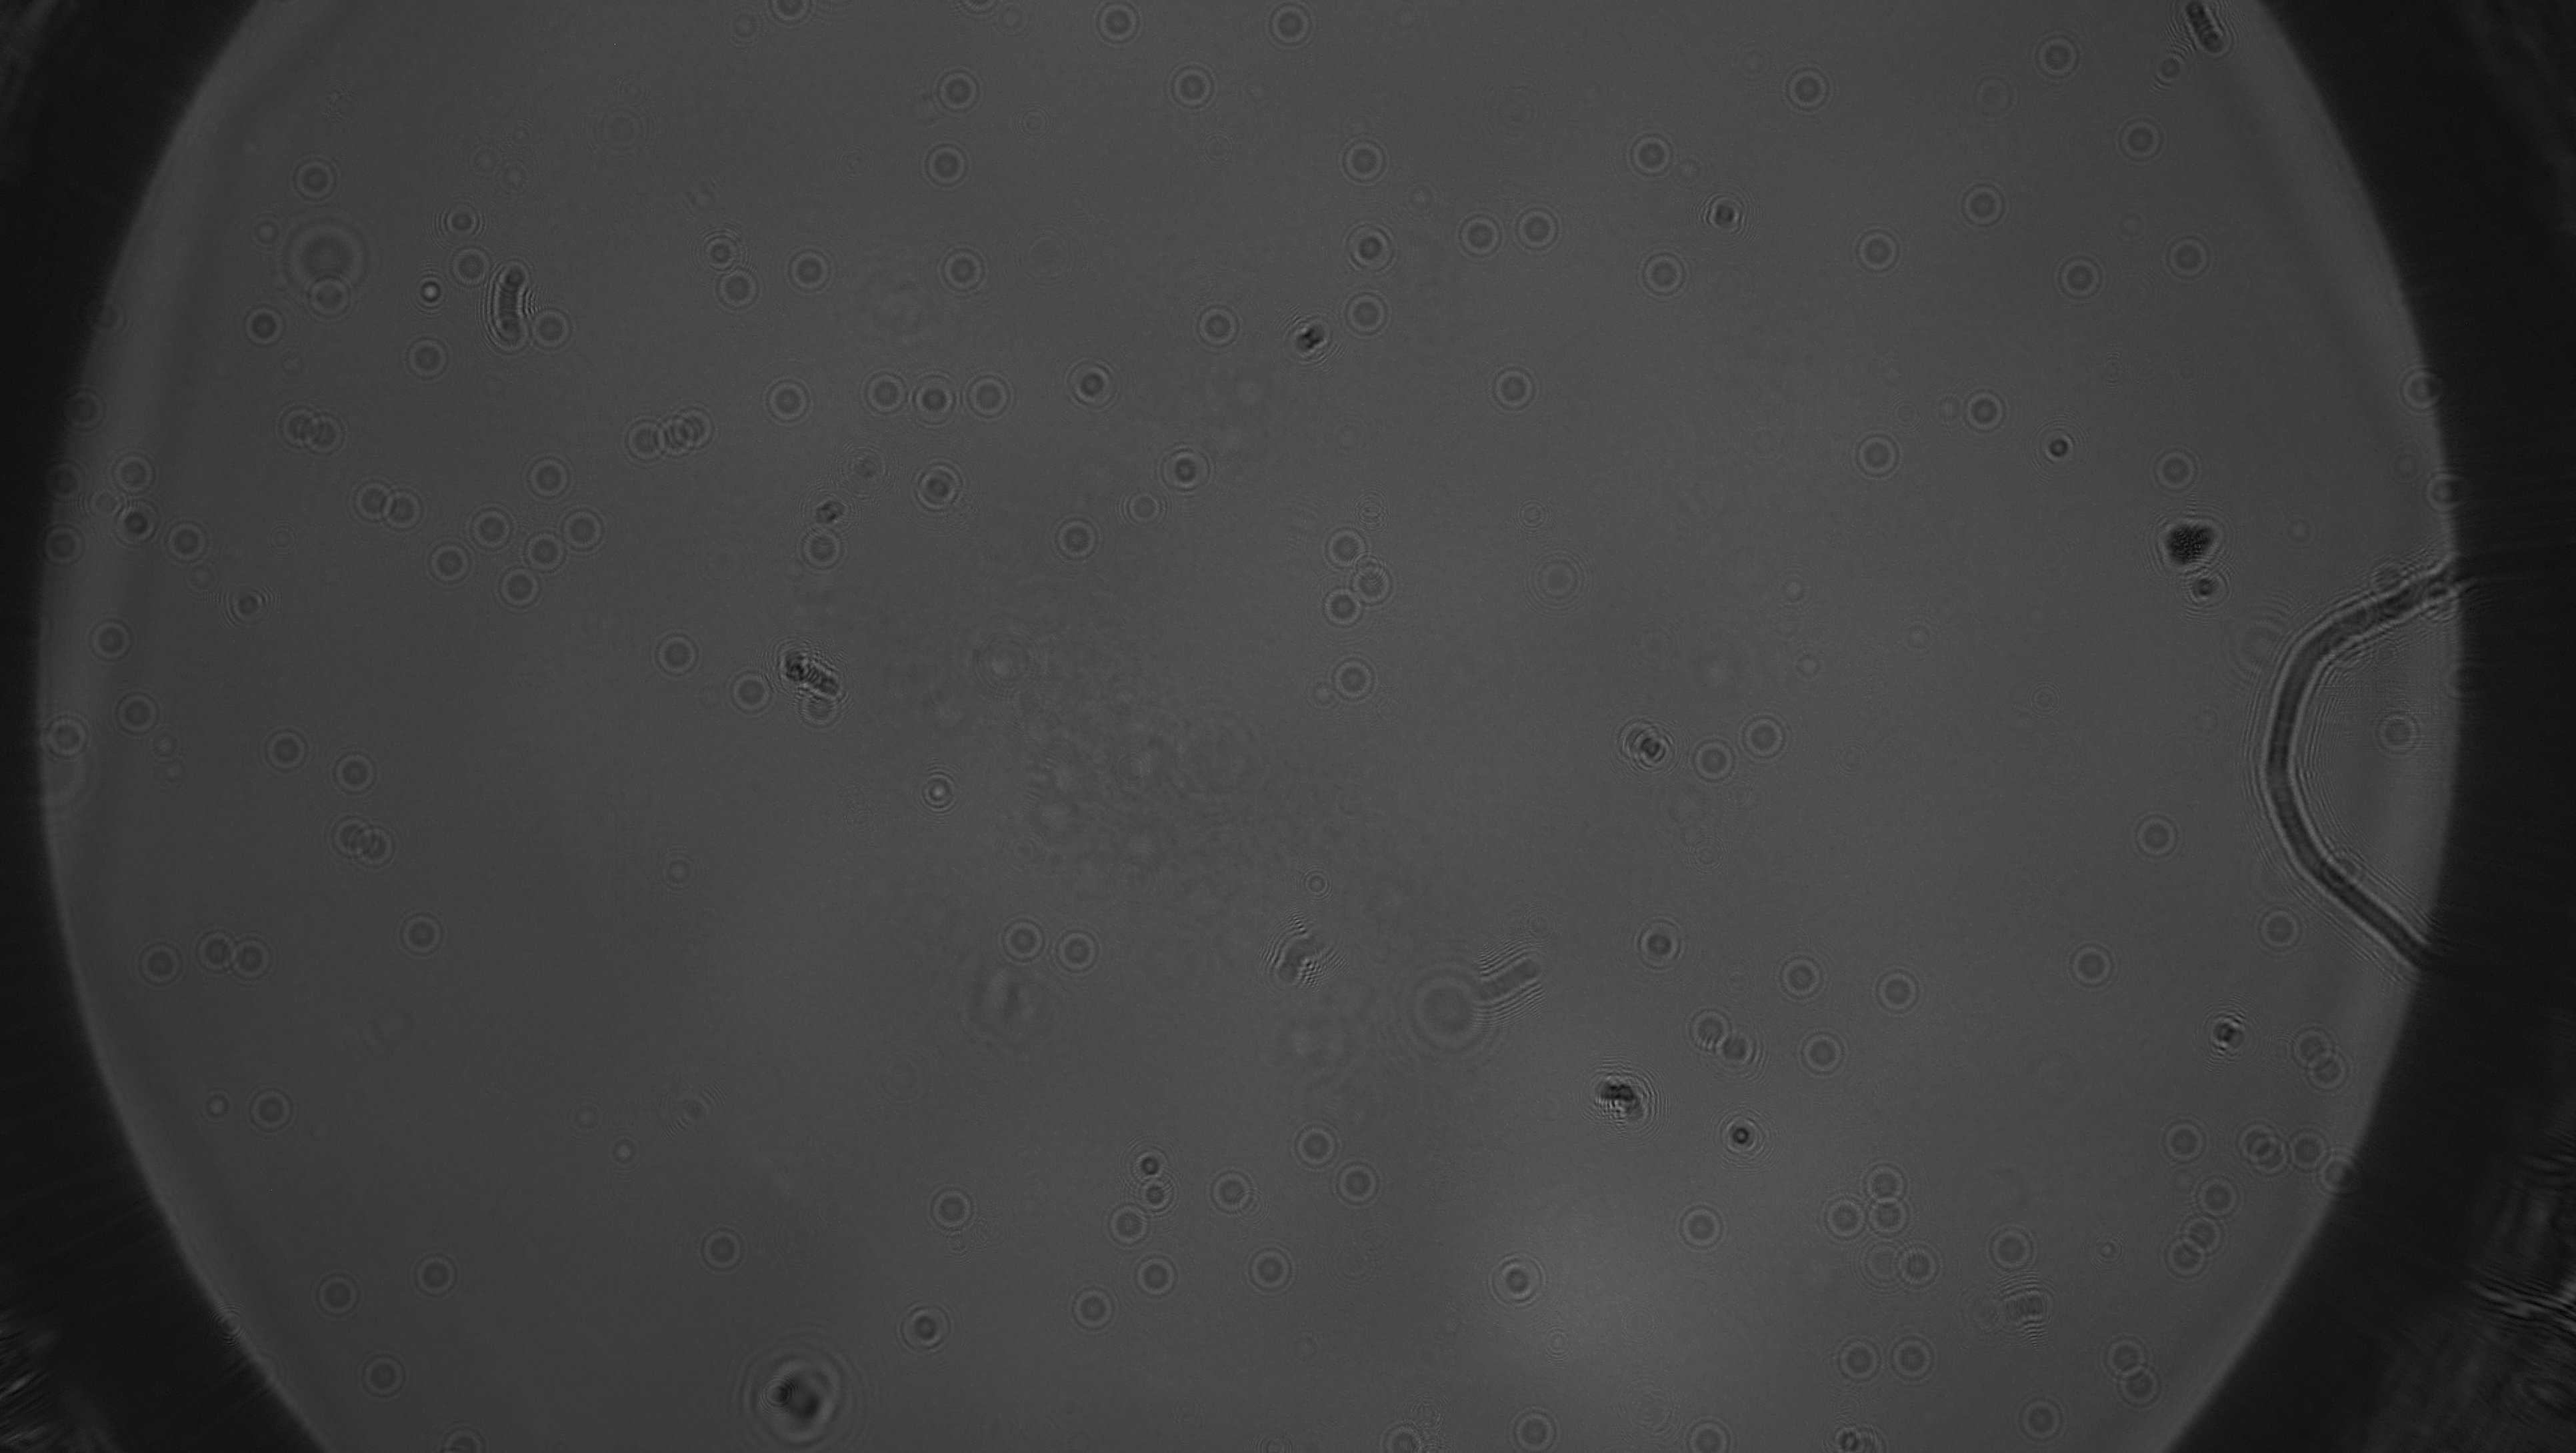bead: (2227, 1111, 2298, 1186), (1626, 910, 1690, 979), (281, 145, 347, 211), (1154, 439, 1219, 504), (2143, 437, 2208, 501), (2307, 1143, 2373, 1207), (2151, 1108, 2217, 1172), (239, 1078, 303, 1142), (1631, 242, 1697, 304), (778, 239, 842, 301), (1776, 57, 1838, 120), (2158, 225, 2222, 287), (1481, 356, 1545, 418), (2392, 357, 2454, 421), (2249, 899, 2312, 961), (1734, 706, 1796, 770), (1062, 356, 1123, 419), (255, 717, 317, 780), (1047, 919, 1109, 982), (1982, 1216, 2043, 1280), (1888, 1234, 1950, 1297), (1813, 1186, 1875, 1249), (32, 451, 97, 511), (1882, 1326, 1943, 1391), (154, 511, 216, 573), (80, 607, 142, 669), (706, 257, 768, 319), (927, 58, 989, 120), (1332, 283, 1394, 345), (1506, 196, 1568, 258), (2109, 108, 2171, 170), (2049, 246, 2111, 308), (1951, 173, 2013, 235), (2410, 572, 2472, 634), (2125, 807, 2187, 869), (2059, 934, 2121, 996), (1341, 554, 1403, 616), (1322, 648, 1384, 710), (1606, 708, 1668, 770), (51, 381, 115, 441), (957, 363, 1017, 427), (2028, 23, 2088, 87), (648, 625, 708, 688), (403, 1244, 467, 1304), (350, 1347, 414, 1407), (922, 1175, 982, 1239), (1771, 943, 1831, 1007), (911, 455, 970, 520), (1240, 1235, 1299, 1301), (301, 267, 361, 329), (439, 235, 501, 296), (419, 529, 479, 591), (462, 497, 522, 559), (550, 497, 610, 559), (916, 133, 977, 195), (1162, 55, 1223, 117), (757, 372, 819, 432), (855, 363, 916, 423), (1621, 122, 1681, 184), (1847, 425, 1907, 487), (2365, 704, 2427, 765), (2173, 1205, 2233, 1267), (2155, 1228, 2217, 1288), (1315, 519, 1376, 579), (35, 704, 96, 766), (219, 927, 281, 988), (690, 1219, 752, 1280), (1063, 1278, 1123, 1340), (1670, 1196, 1730, 1258), (1868, 959, 1928, 1021), (1792, 1021, 1854, 1081), (396, 326, 455, 389), (1451, 204, 1509, 267), (2295, 1041, 2358, 1099), (389, 904, 453, 963), (129, 933, 188, 996), (481, 304, 541, 365), (103, 442, 163, 503), (1334, 129, 1394, 189), (720, 662, 780, 722), (106, 683, 166, 743), (306, 1265, 366, 1326), (993, 910, 1053, 970), (1327, 1152, 1387, 1212), (2010, 1388, 2070, 1448), (520, 299, 582, 357), (272, 395, 331, 457), (520, 446, 579, 508), (619, 409, 678, 471), (2316, 621, 2378, 680), (1684, 729, 1743, 791), (1288, 1113, 1346, 1175), (1854, 1154, 1916, 1212), (373, 478, 432, 538), (488, 557, 548, 616), (663, 396, 722, 457), (932, 239, 991, 299), (1189, 296, 1247, 356), (1849, 219, 1907, 280), (2281, 1120, 2339, 1180), (1049, 510, 1108, 570), (789, 681, 849, 740), (324, 743, 384, 802), (343, 819, 403, 878), (1100, 1195, 1161, 1253), (1203, 1161, 1261, 1221), (292, 405, 354, 462), (2312, 842, 2374, 899), (2187, 1170, 2249, 1226), (791, 522, 853, 579), (343, 471, 402, 529), (517, 522, 575, 580), (2284, 1018, 2342, 1076), (188, 922, 246, 980), (1829, 1329, 1888, 1388), (1861, 1188, 1921, 1244), (1260, 0, 1322, 55), (2323, 584, 2385, 639), (2427, 646, 2480, 710), (320, 811, 384, 864), (1683, 998, 1739, 1057), (2109, 1356, 2167, 1412), (2097, 1327, 2155, 1384), (32, 515, 87, 575), (649, 405, 701, 467), (1088, 0, 1146, 51), (1506, 1403, 1566, 1453), (1677, 1411, 1737, 1453), (433, 1418, 494, 1453), (761, 0, 821, 34), (1375, 1418, 1431, 1453), (950, 0, 1007, 23)
